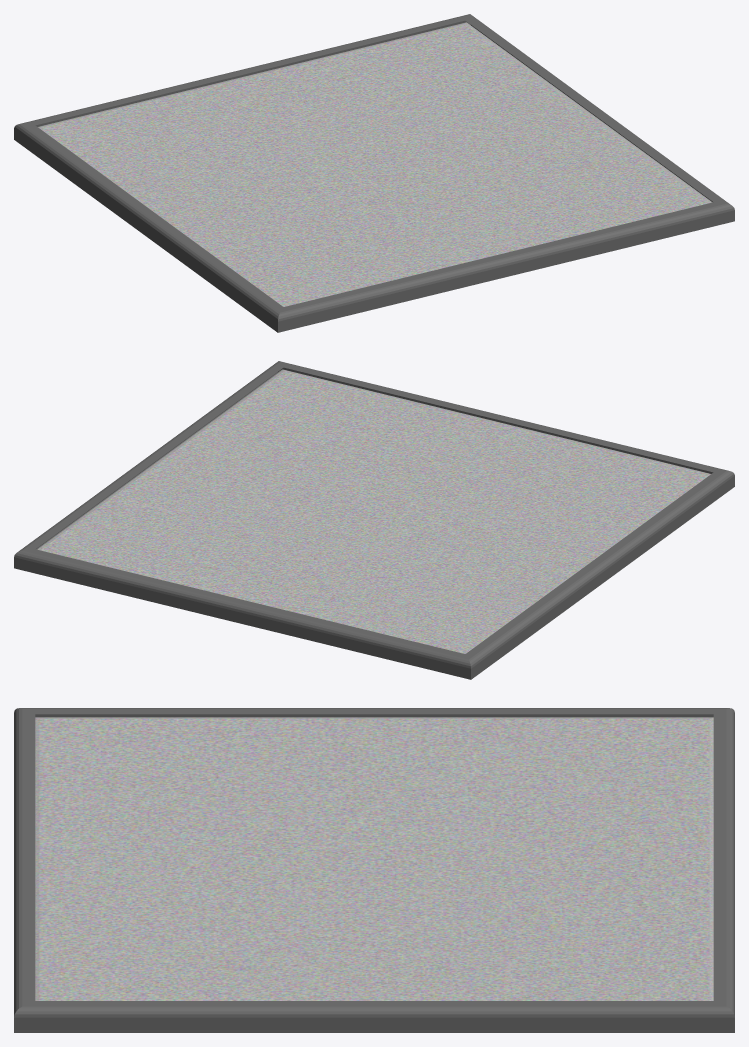
Rendered from office_up_floor.fbx.
The picture shows the model from 3 angles, top to bottom: view 1: azimuth 30°, elevation 25°; view 2: azimuth 150°, elevation 25°; view 3: azimuth 270°, elevation 25°; orthographic projection. The views are drawn at different scales.
Parts seen in each view (by area): view 1: Плоскость; view 2: Плоскость; view 3: Плоскость.
Boxes of the visible parts, left/top/right/bottom form: Плоскость: left=14, top=14, right=734, bottom=332; Плоскость: left=14, top=361, right=734, bottom=679; Плоскость: left=14, top=708, right=734, bottom=1032.
Size of the model in its own units: 207 by 7.22 by 207.
Materials: 2 (1 with a texture image).
